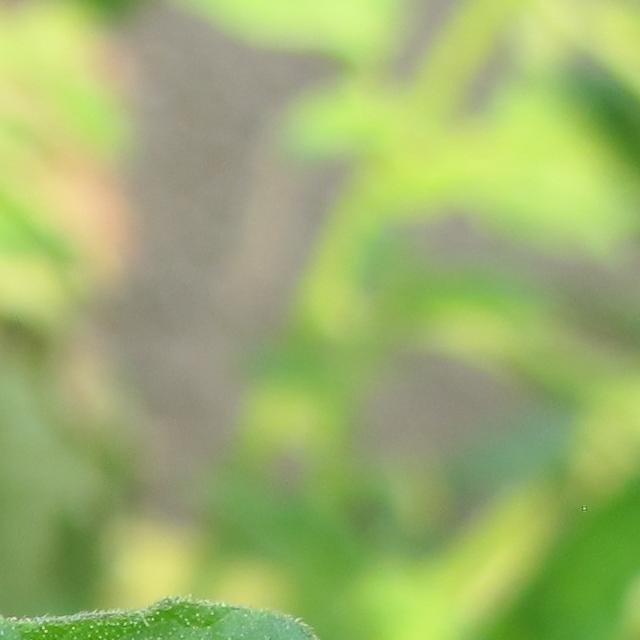Tomato leaf mosaic virus: (0, 27, 640, 640)
